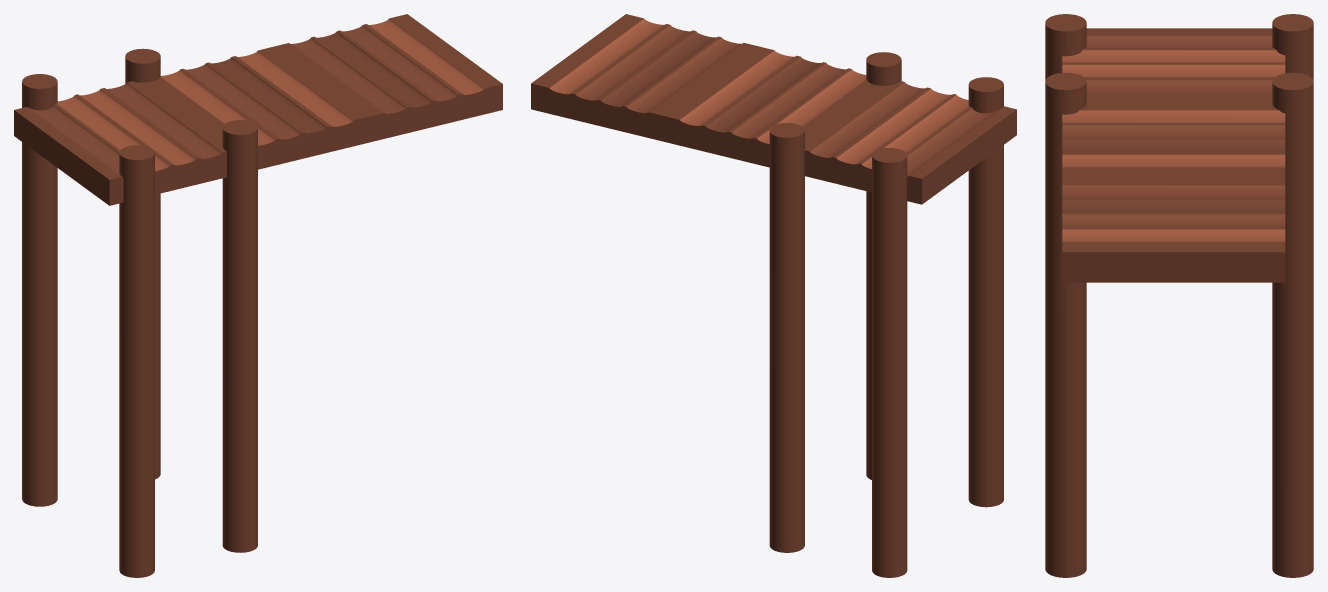
Rendered from Pier_Part1.fbx.
3 views of the same model, side by side, from view 1: azimuth 30°, elevation 25°; view 2: azimuth 150°, elevation 25°; view 3: azimuth 270°, elevation 25° (orthographic). The views are drawn at different scales.
Parts seen in each view (by area): view 1: Model; view 2: Model; view 3: Model.
Boxes of the visible parts, x1,y1,x2,y2 form: Model: (14, 14, 502, 577); Model: (531, 14, 1016, 577); Model: (1045, 14, 1313, 577).
Bounding box in the file's own units: 1027 × 1042 × 520.
